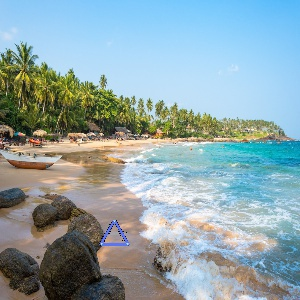triangle: (96, 217, 133, 249)
